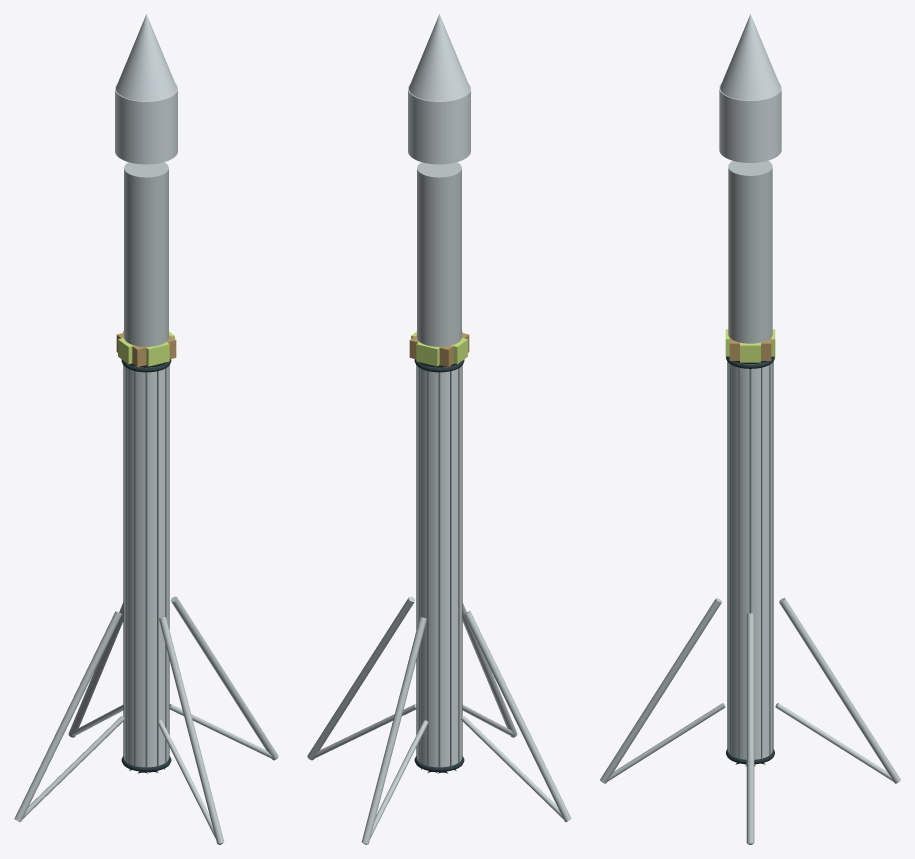
The model's file is falcon-9.glb.
3 views of the same model, side by side, from view 1: azimuth 30°, elevation 25°; view 2: azimuth 150°, elevation 25°; view 3: azimuth 270°, elevation 25° (orthographic).
Visible parts, largest first — view 1: stage-1, legs, stage-2, fairing, avionics; view 2: stage-1, legs, stage-2, fairing, avionics; view 3: stage-1, stage-2, legs, fairing, avionics.
Boxes of the visible parts, x1,y1,x2,y2 form: stage-1: [121, 359, 171, 771]; legs: [14, 596, 278, 844]; stage-2: [121, 162, 171, 372]; fairing: [115, 14, 177, 164]; avionics: [116, 330, 176, 366]; stage-1: [414, 359, 464, 771]; legs: [307, 596, 571, 844]; stage-2: [414, 162, 464, 372]; fairing: [408, 14, 470, 164]; avionics: [409, 330, 469, 366]; stage-1: [726, 356, 774, 764]; stage-2: [726, 161, 774, 368]; legs: [600, 598, 900, 844]; fairing: [719, 14, 781, 162]; avionics: [725, 329, 775, 362].
Size of the model in its own units: 2.86 by 8.07 by 2.86.
